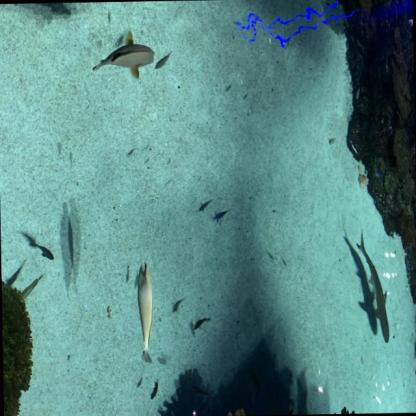fish: (93, 34, 156, 82), (135, 259, 155, 366), (14, 2, 72, 21), (18, 275, 41, 302), (35, 236, 55, 264), (153, 50, 173, 70), (191, 315, 209, 334), (149, 376, 160, 403), (68, 218, 74, 266), (211, 209, 228, 224), (199, 199, 212, 212)
shark: (356, 226, 390, 344)
